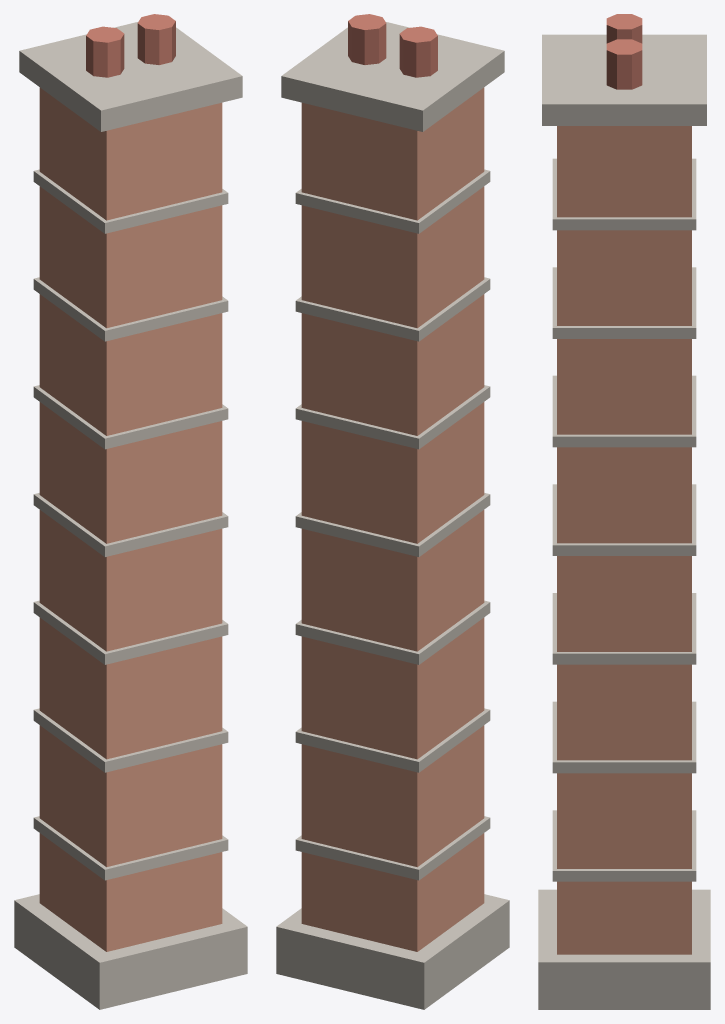
The model's file is chimney_6_5.glb.
3 views of the same model, side by side, from view 1: azimuth 30°, elevation 25°; view 2: azimuth 150°, elevation 25°; view 3: azimuth 270°, elevation 25° (orthographic).
Parts seen in each view (by area): view 1: Player; view 2: Player; view 3: Player.
Part boxes in pixels (bbox=[...]): Player: bbox=[14, 14, 247, 1009]; Player: bbox=[276, 14, 509, 1009]; Player: bbox=[538, 14, 710, 1009].
Bounding box in the file's own units: 1.15 × 6.92 × 1.15.
